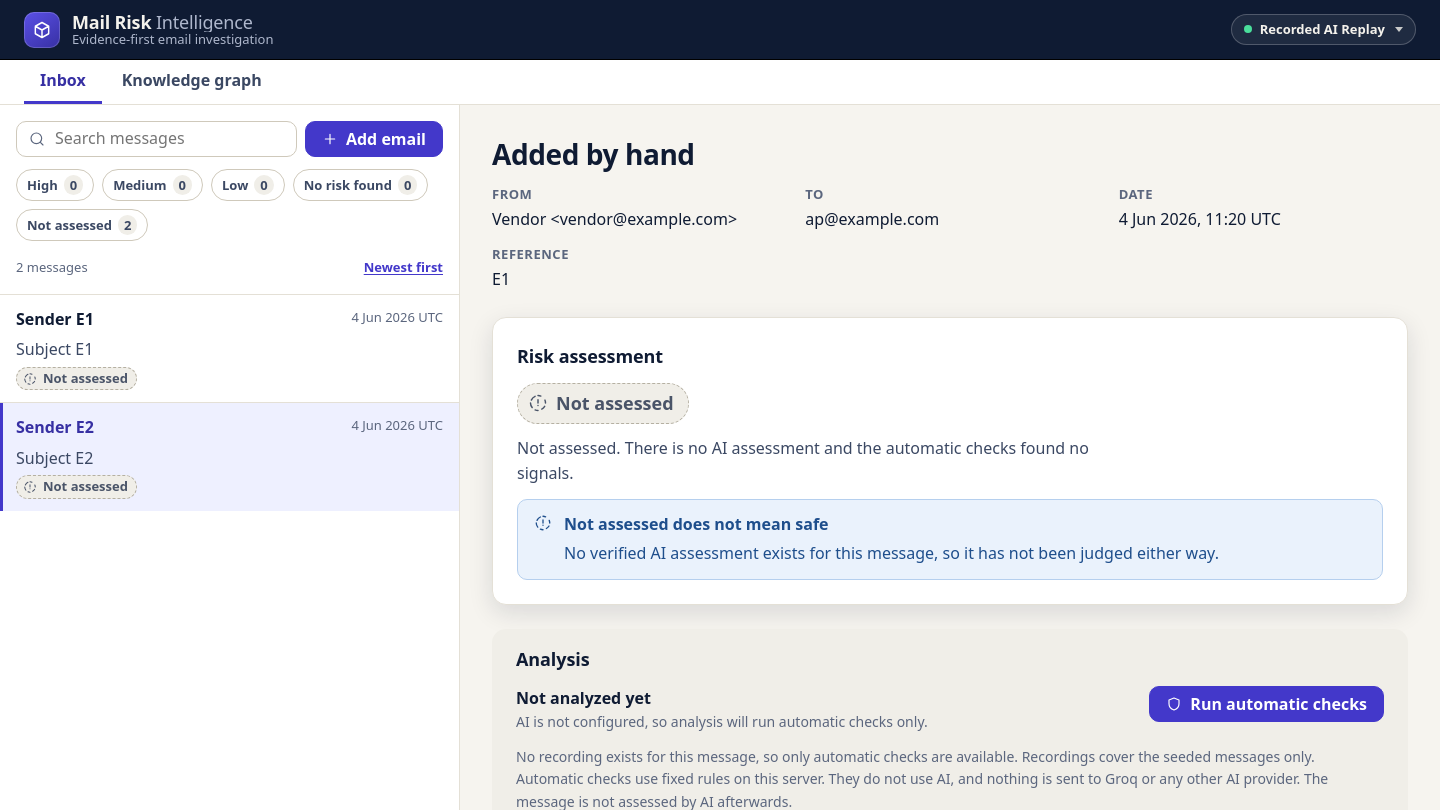
Test: automatic checks (rules-only) in the investigation view › shows the server's refusal and leaves the message as it was
Click the button "Run automatic checks": (1267, 704) [1149,686,1384,722]
(page scrolled)
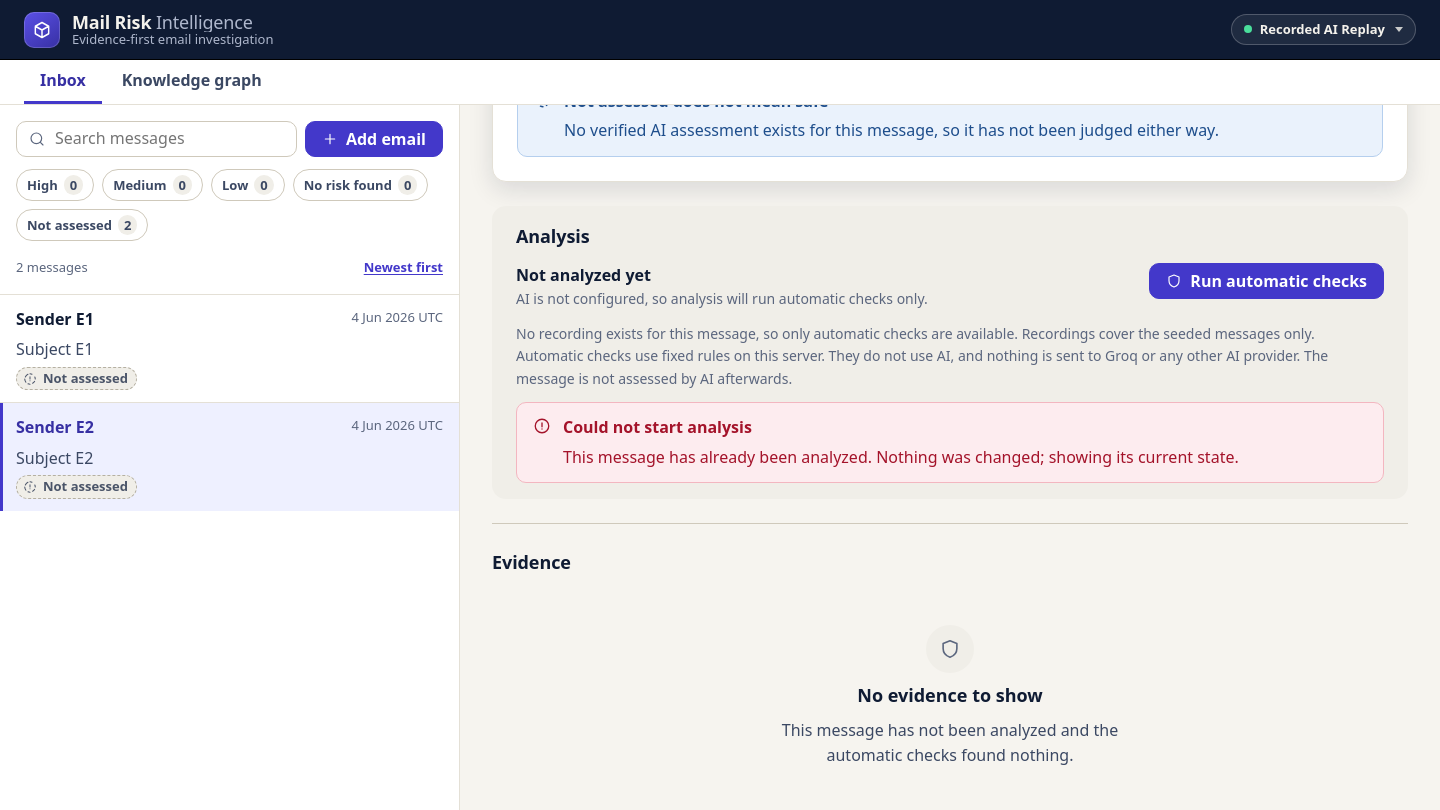
Expected: the text "This message has already been analyzed. Nothing was changed; showing its current state." is shown, [563,446,1239,468]
